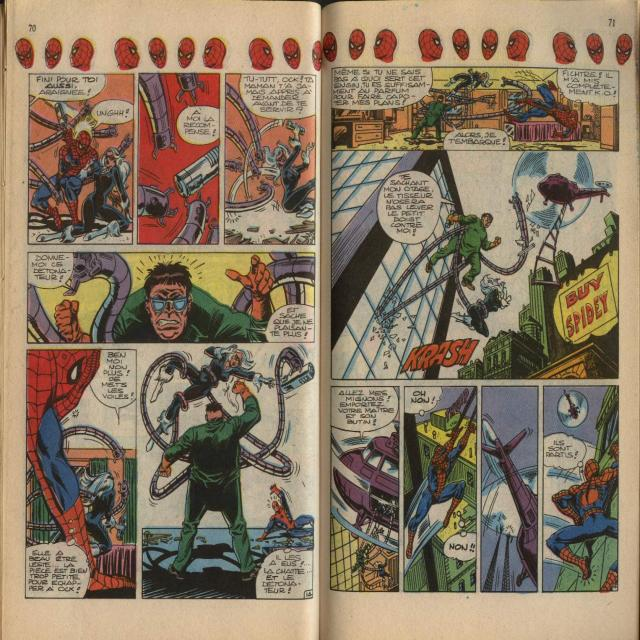comic_panel: (330, 150, 622, 381), (142, 343, 318, 602), (24, 347, 138, 602), (27, 250, 316, 347), (329, 65, 622, 154), (26, 72, 136, 245), (541, 383, 621, 594), (224, 72, 318, 248), (401, 384, 478, 596), (329, 384, 402, 594), (137, 70, 221, 248), (480, 383, 540, 597)
